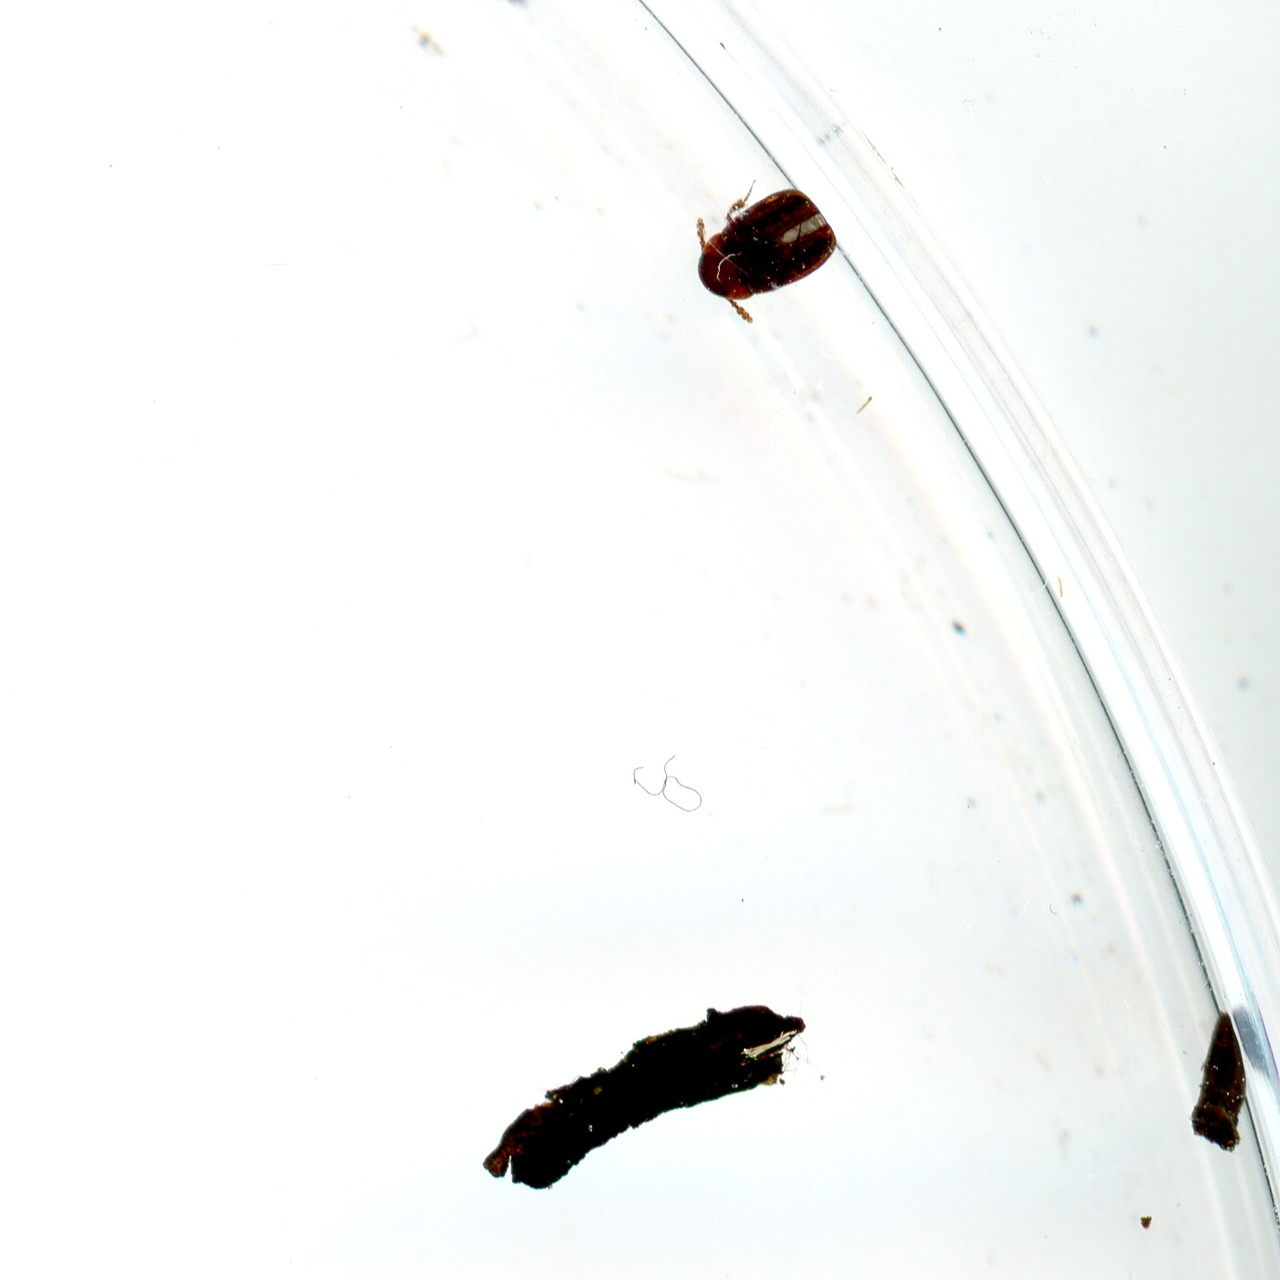arthropod: (665, 154, 858, 341)
